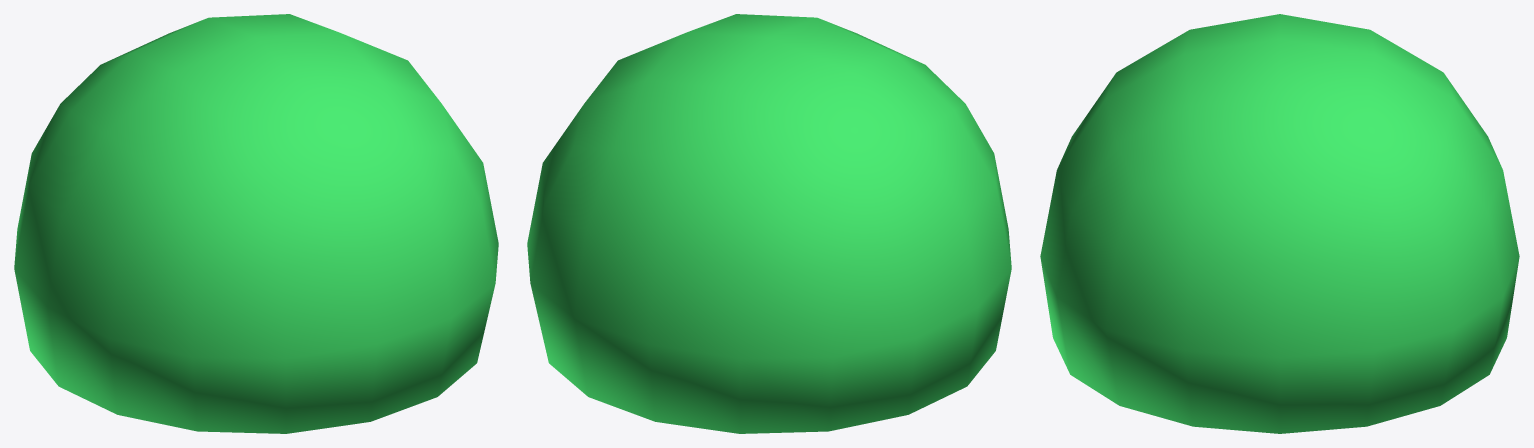
The model's file is Bush.fbx.
3 renders of one model, left to right at view 1: azimuth 30°, elevation 25°; view 2: azimuth 150°, elevation 25°; view 3: azimuth 270°, elevation 25°, orthographic.
Visible parts, largest first — view 1: Cube.077; view 2: Cube.077; view 3: Cube.077.
Boxes of the visible parts, x1,y1,x2,y2 form: Cube.077: (14, 14, 498, 433); Cube.077: (527, 14, 1011, 433); Cube.077: (1040, 14, 1519, 433).
Bounding box in the file's own units: 168 × 116 × 168.
